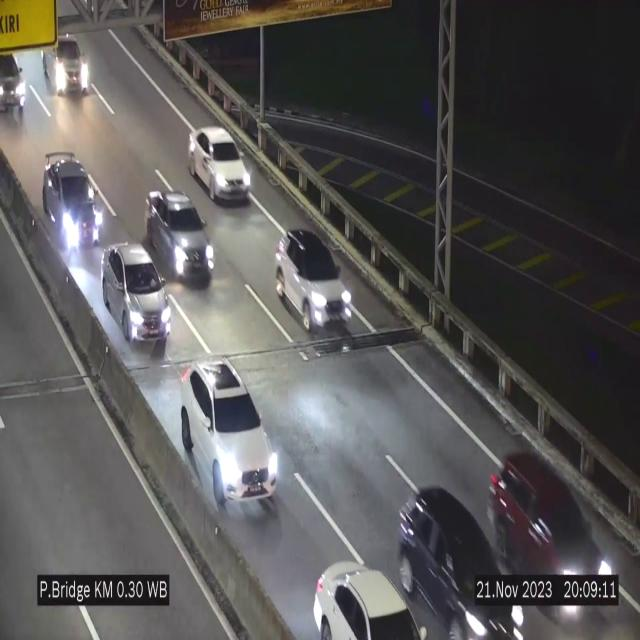Car: (486, 441, 622, 631), (393, 478, 528, 640), (180, 363, 279, 509), (303, 555, 429, 640), (274, 230, 352, 331), (101, 243, 171, 345), (145, 191, 214, 285), (41, 149, 104, 249), (188, 127, 250, 202), (45, 36, 91, 101), (0, 38, 33, 110)
